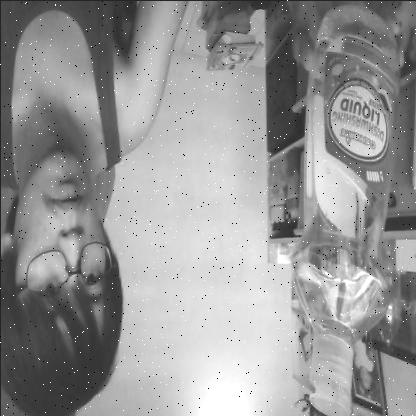Plastic Bottle: (290, 0, 404, 416)
